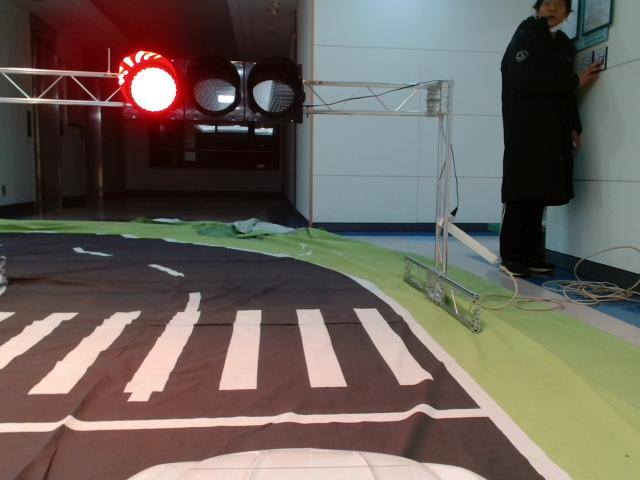crosswalk: (1, 310, 436, 391)
traffic light-red-: (119, 51, 303, 122)
